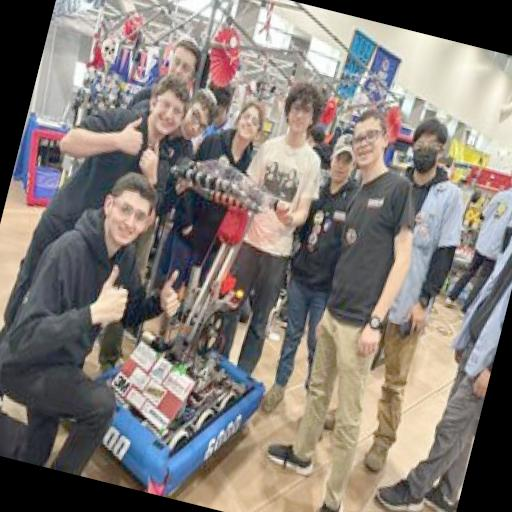robot: (65, 132, 320, 510)
